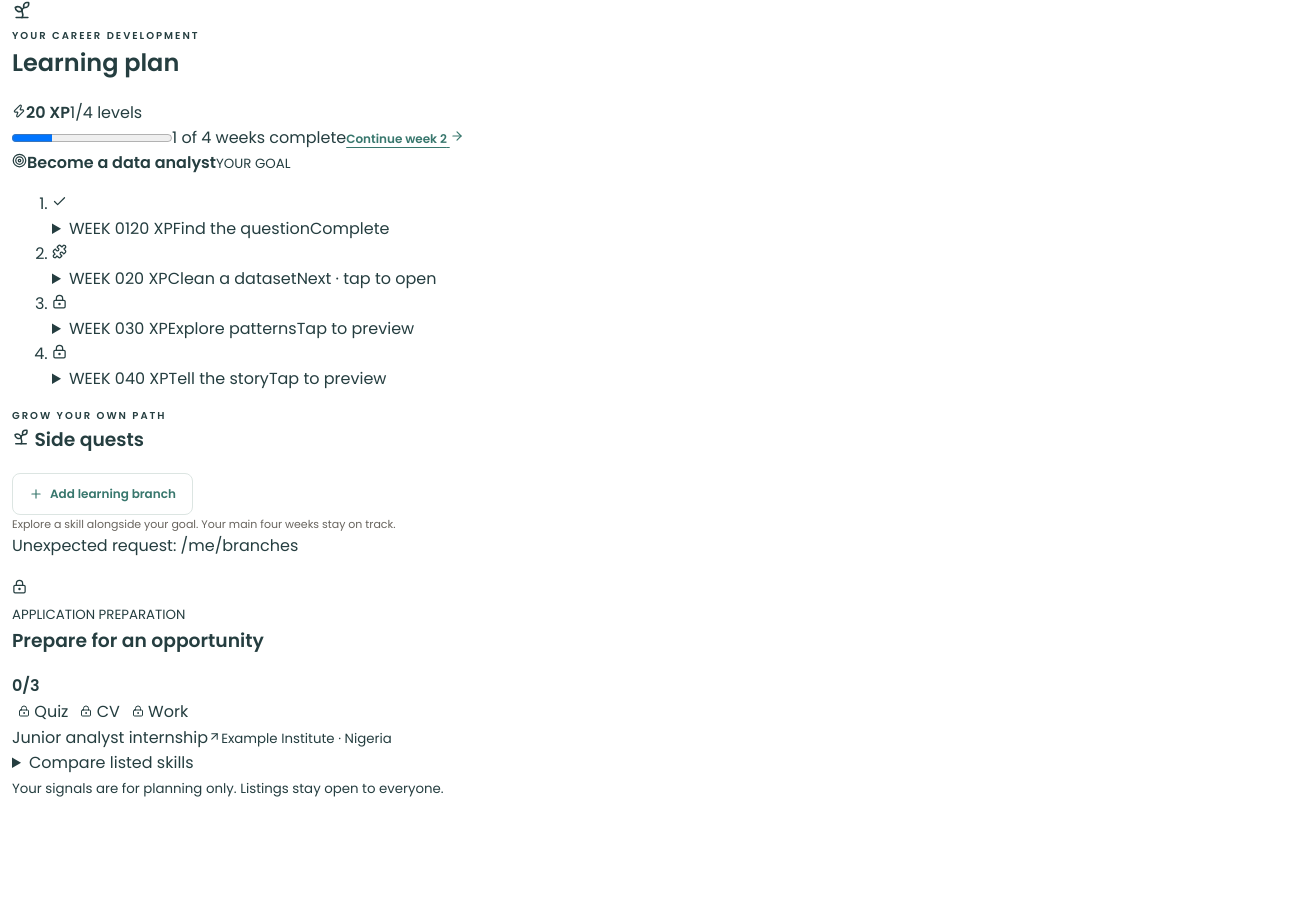
Test: keeps real opportunity visible while the preparation quest is locked
Expected: the heading "Prepare for an opportunity" is shown, x1=12 y1=627 x2=264 y2=654
Expected: the text "0/3" is shown, x1=12 y1=674 x2=40 y2=697
Step 1. Click the heading that starts with "WEEK" → (242,328), box x1=69 y1=317 x2=414 y2=340
(page scrolled)
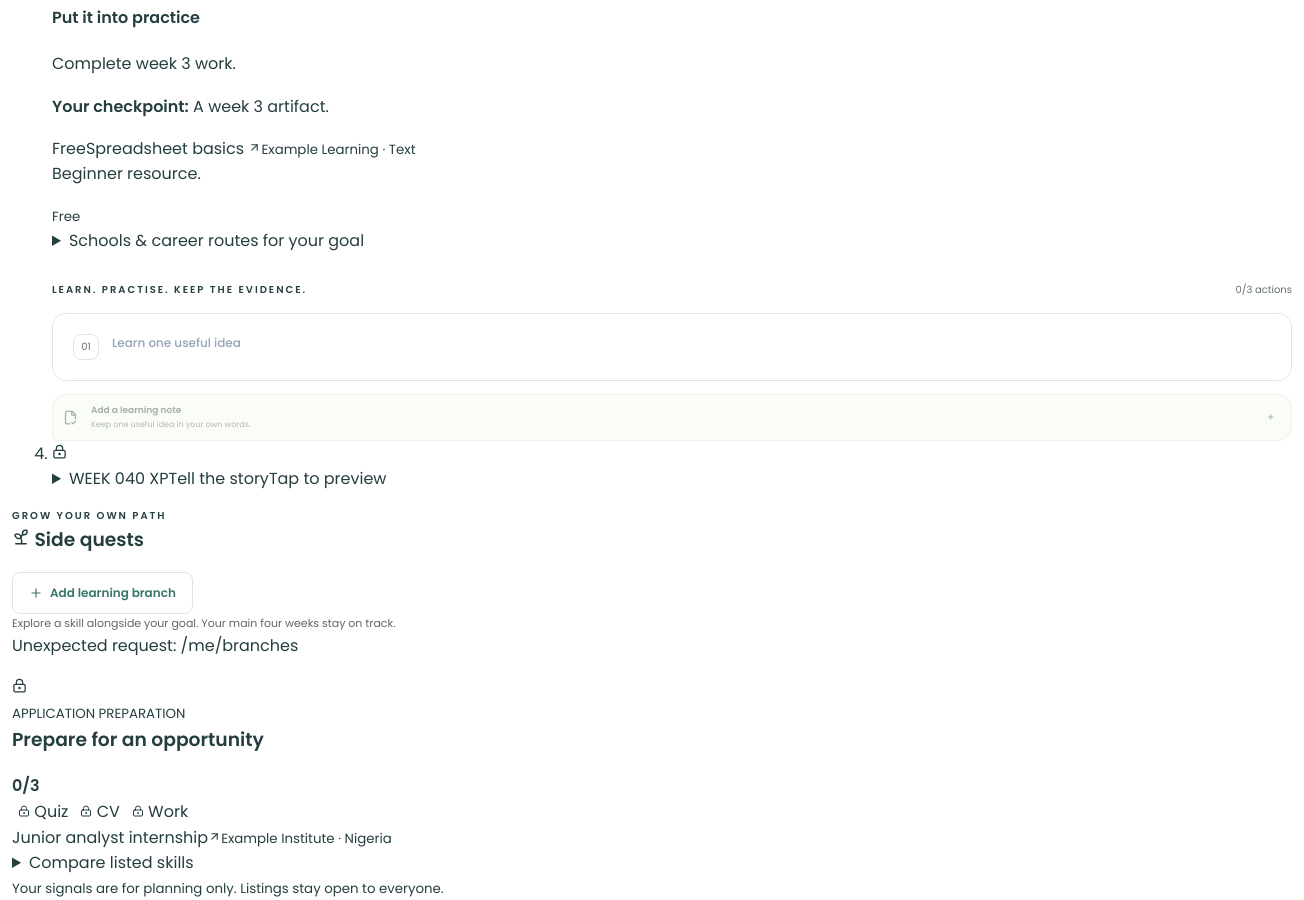
Now the checkbox is disabled, box x1=53 y1=314 x2=1291 y2=380
Now the button "Add a learning note" is disabled, box x1=52 y1=394 x2=1292 y2=441
Step 2. Click the heading "Compare listed skills" → (111,863), box x1=29 y1=851 x2=194 y2=874
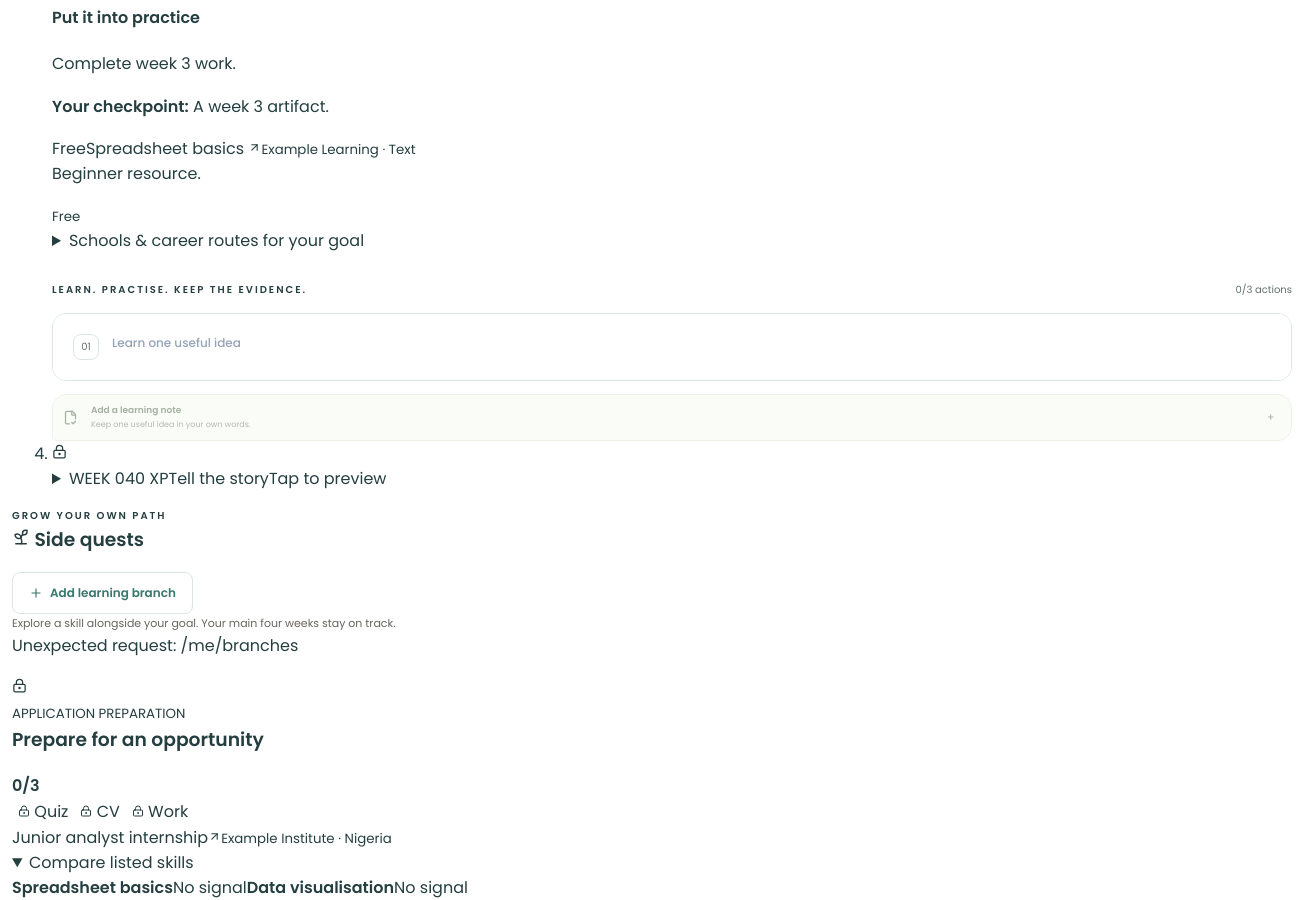
Now the text "No signal" is shown 2 times, box x1=173 y1=876 x2=247 y2=899; x1=394 y1=876 x2=468 y2=899
